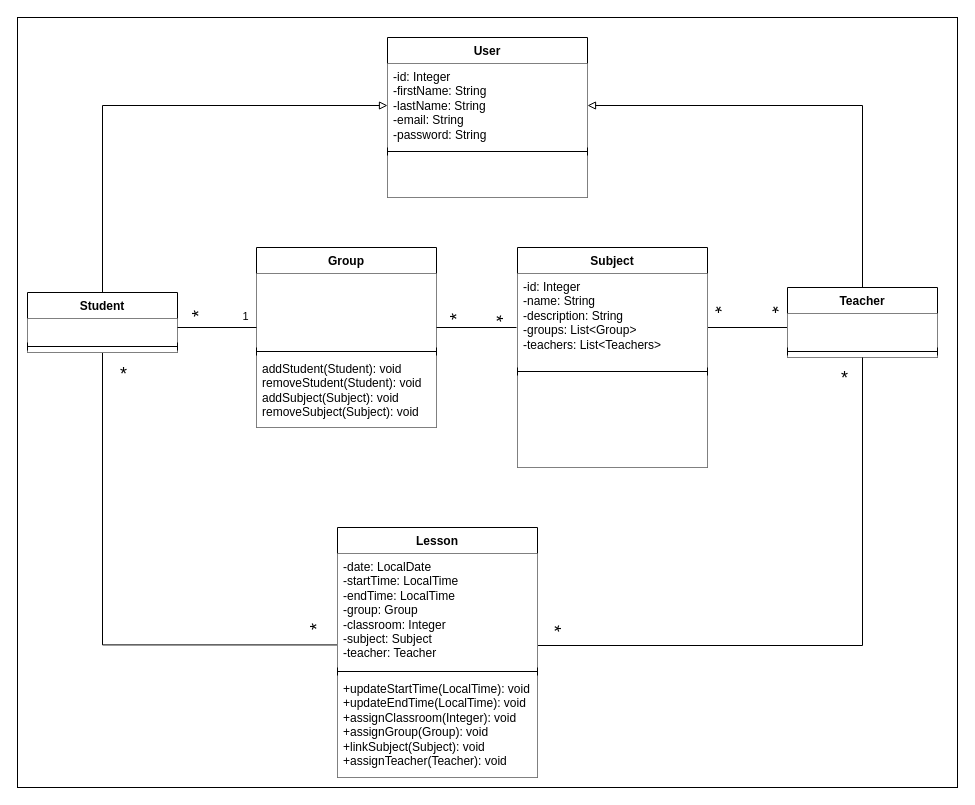
Image size: 975x805. Some labels were removed from this diagram. The shapes that lost their labels are listed below. From the top down, each one's centre as x and y in pixels, then its label:
point 487,176: +getSchedule(LocalDate, Period): List<Lesson>
point 102,330: -group: Group
point 346,310: -id: Long -name: String -students: List<Students> -subjects: List<Subjects>
point 862,330: -department: String -subject: Subject
point 612,421: +assignTeacher(Teacher): void +unassignTeacher(Teacher): void
